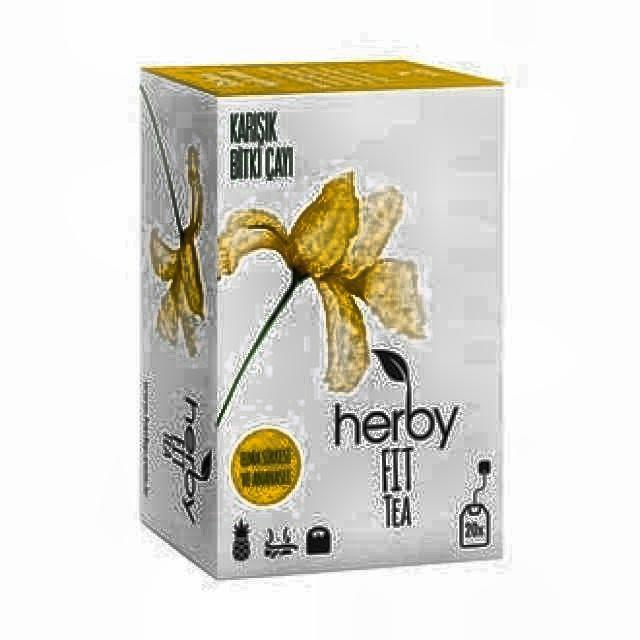cardboard: (136, 59, 504, 583)
